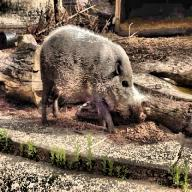boar: (35, 19, 145, 139)
